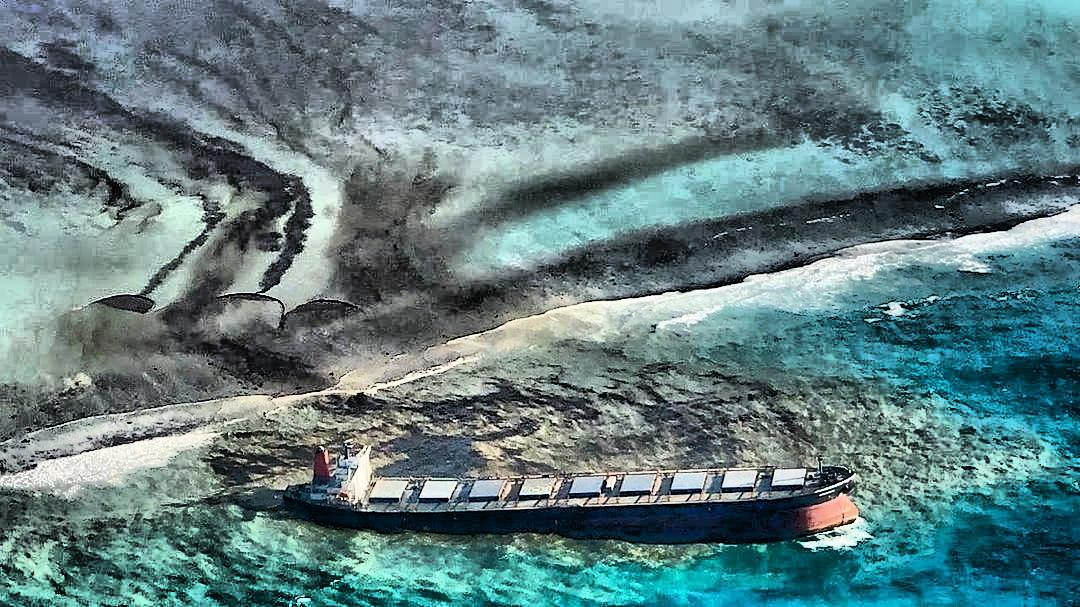truecolor: (226, 349, 909, 488)
